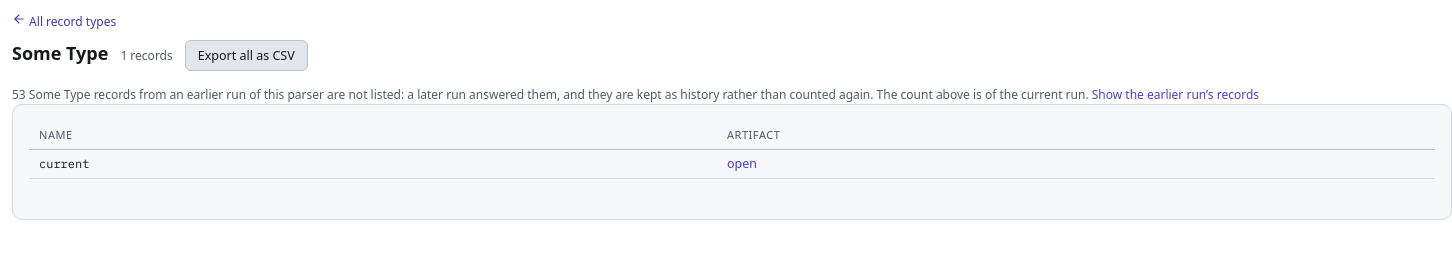
Test: records a later run answered, on the page shell › says how many an earlier run left, and can show them
expect the element with test id "rv-superseded-note" shows "53": met, box [12,86,26,104]
expect the element with test id "rv-superseded-note" shows "earlier run": met, box [90,86,1089,104]
Click the button "Show the earlier run’s records" at (1175, 95), box [1092,86,1259,104]
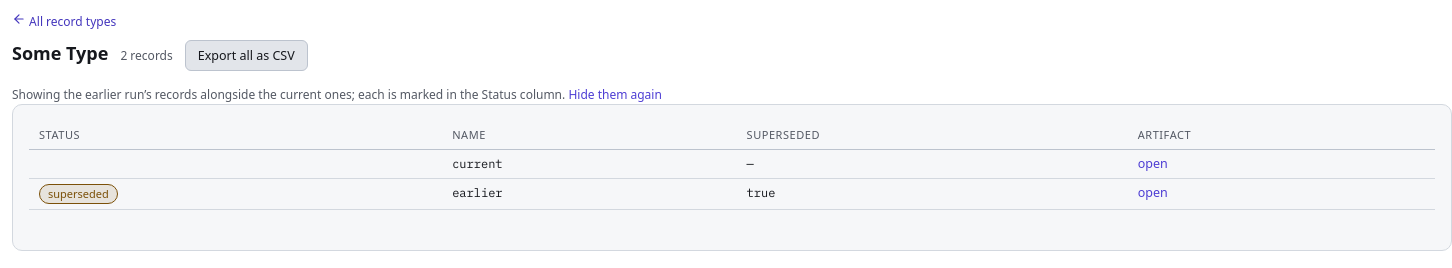
expect the text "superseded" is shown: met, box [39,184,118,204]
